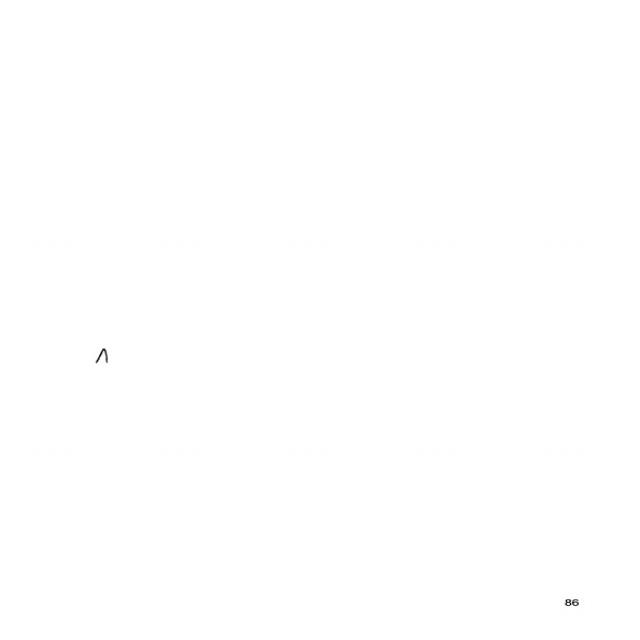8 -eight-: (92, 346, 112, 366)
